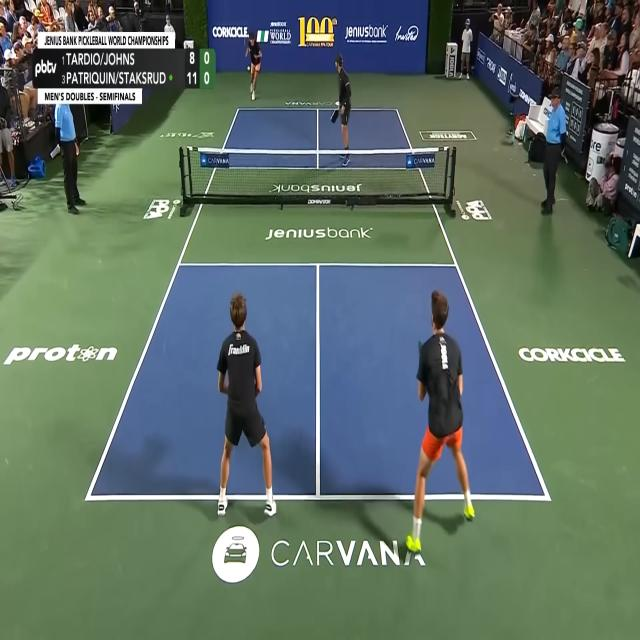ball: (247, 66, 251, 71)
